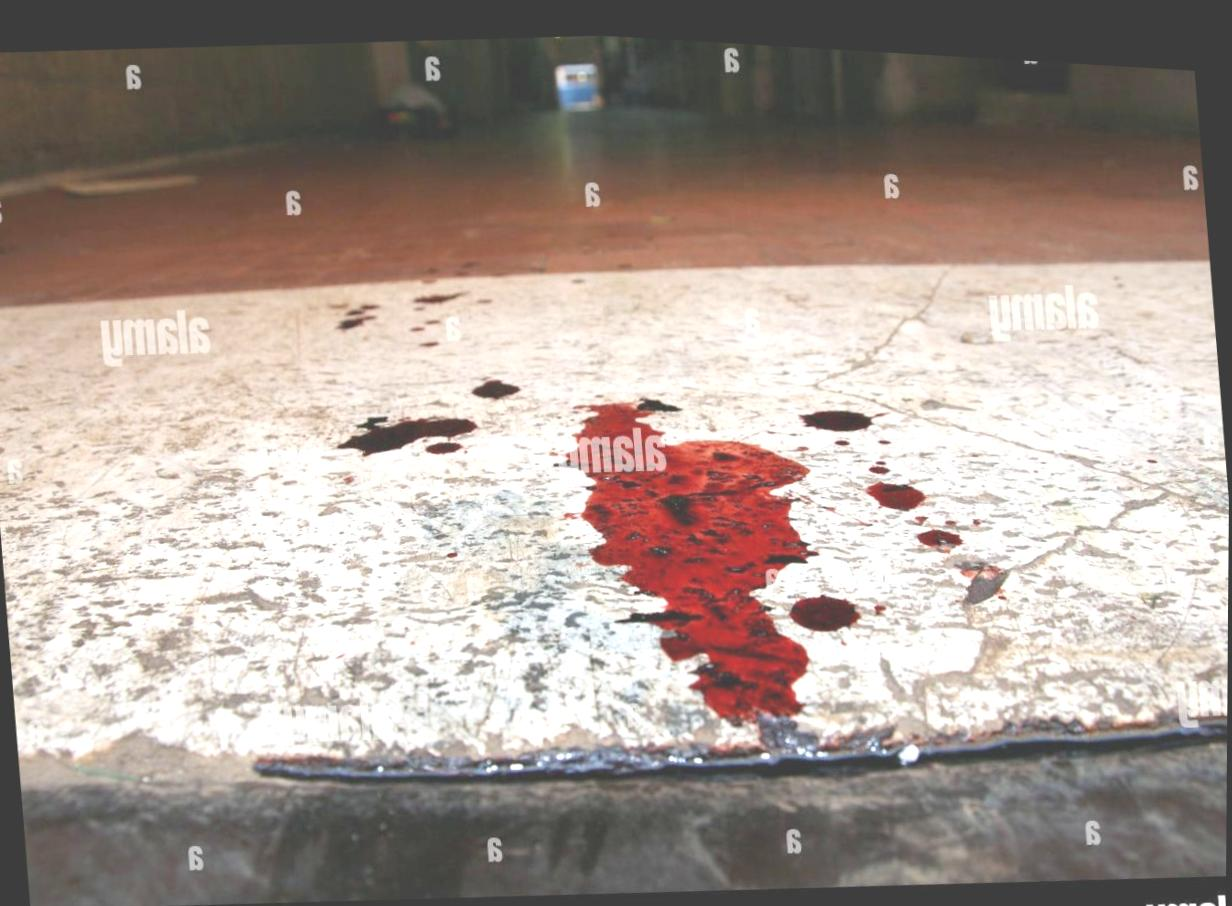Fire: (548, 390, 821, 743), (338, 411, 479, 452), (790, 583, 864, 622), (866, 470, 928, 500), (799, 400, 876, 421), (472, 374, 521, 393), (918, 517, 965, 536), (425, 436, 465, 449)
